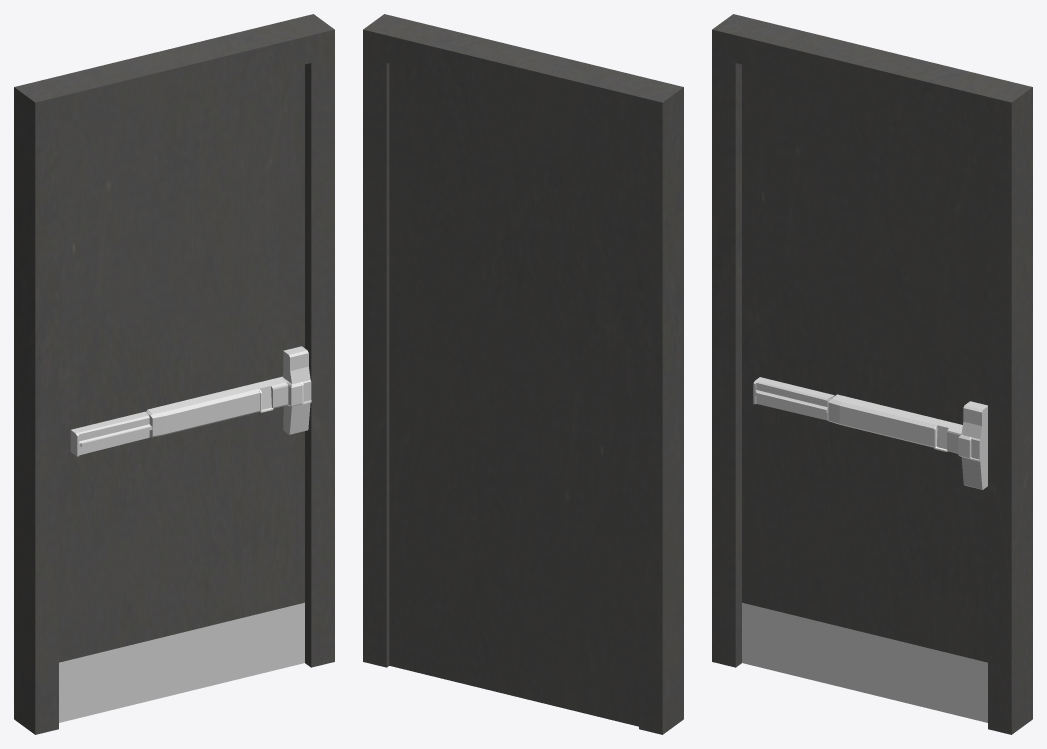
File: EmergencyDoor.fbx
3 renders of one model, left to right at view 1: azimuth 30°, elevation 25°; view 2: azimuth 150°, elevation 25°; view 3: azimuth 330°, elevation 25°, orthographic.
Parts seen in each view (by area): view 1: Door Frame; view 2: Door Frame; view 3: Door Frame.
Boxes of the visible parts, x1,y1,x2,y2 form: Door Frame: (14,14,334,734); Door Frame: (363,14,683,734); Door Frame: (712,14,1032,734).
Bounding box in the file's own units: 142 × 285 × 21.54.
Materials: 4 (1 with a texture image).
